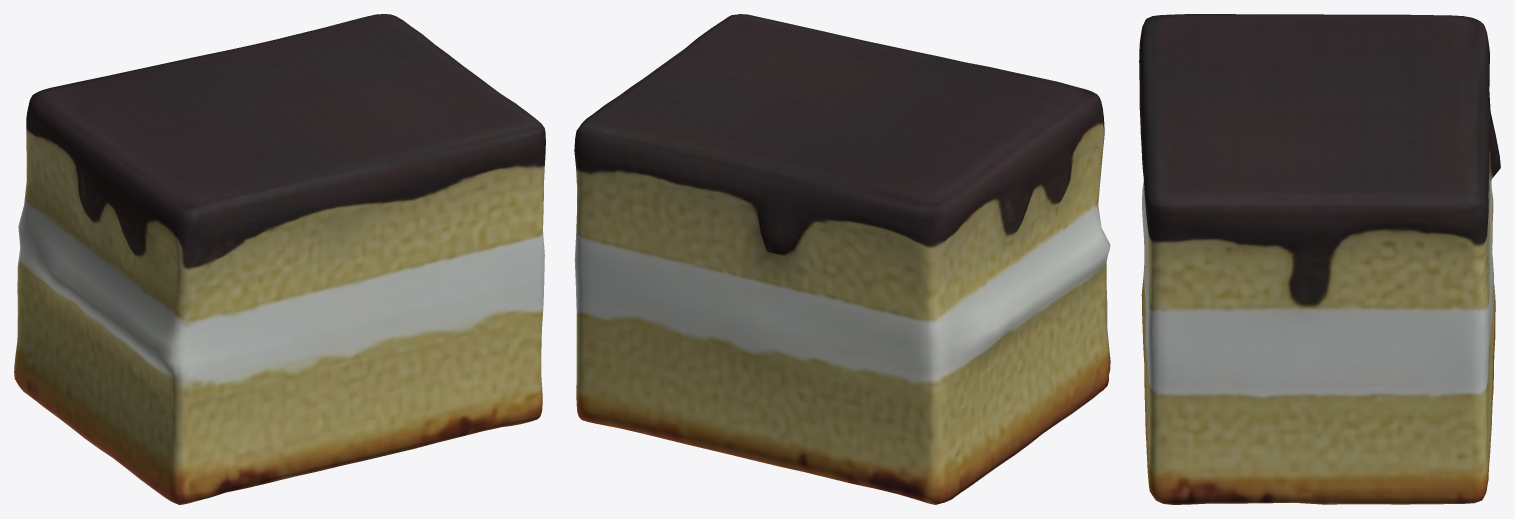
The model's file is cake 01.glb.
3 views of the same model, side by side, from view 1: azimuth 30°, elevation 25°; view 2: azimuth 150°, elevation 25°; view 3: azimuth 270°, elevation 25° (orthographic). The views are drawn at different scales.
Visible parts, largest first — view 1: mesh; view 2: mesh; view 3: mesh.
Part boxes in pixels (left/top/right/bottom): mesh: left=14, top=14, right=545, bottom=504; mesh: left=574, top=14, right=1110, bottom=504; mesh: left=1139, top=14, right=1500, bottom=504.
Size of the model in its own units: 0.999 by 0.7604 by 0.7852.
1 material, 1 textured.
